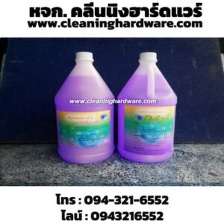cleaning_solution: (53, 51, 117, 166), (114, 50, 178, 164)
